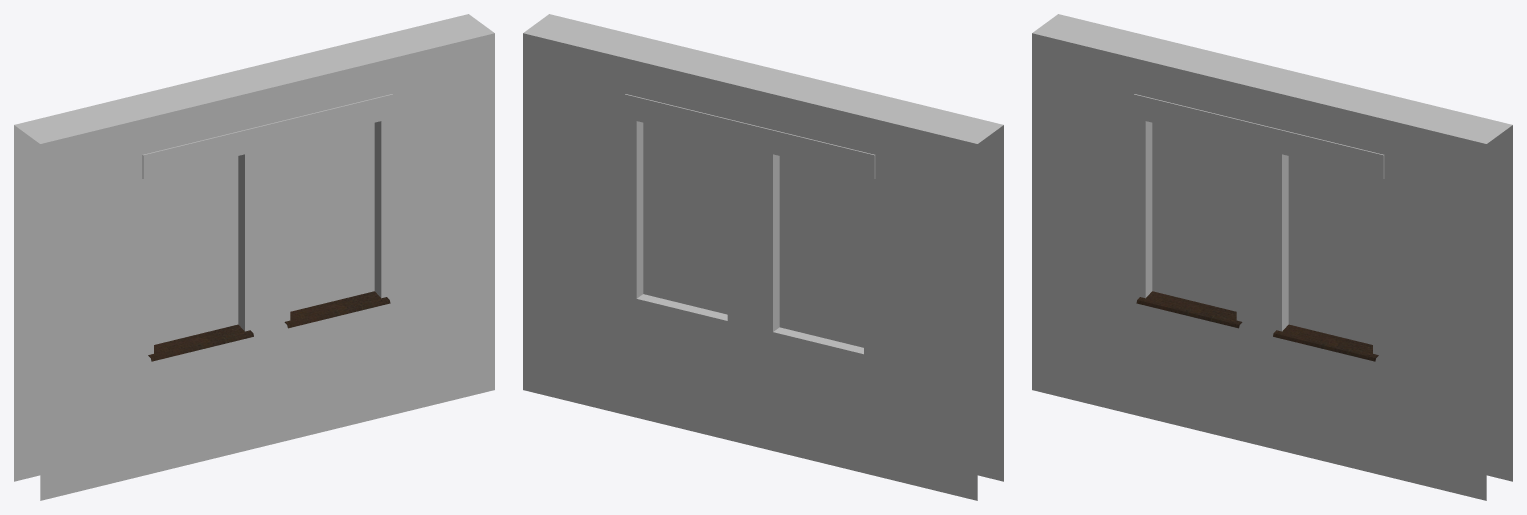
File: windows_hr_2.fbx
The picture shows the model from 3 angles, left to right: view 1: azimuth 30°, elevation 25°; view 2: azimuth 150°, elevation 25°; view 3: azimuth 330°, elevation 25°; orthographic projection.
Visible parts, largest first — view 1: windows_hr_2; view 2: windows_hr_2; view 3: windows_hr_2.
Part boxes in pixels (bbox=[...]): windows_hr_2: bbox=[14, 14, 494, 500]; windows_hr_2: bbox=[523, 14, 1003, 500]; windows_hr_2: bbox=[1032, 14, 1512, 500].
Size of the model in its own units: 4 by 0.465 by 3.
